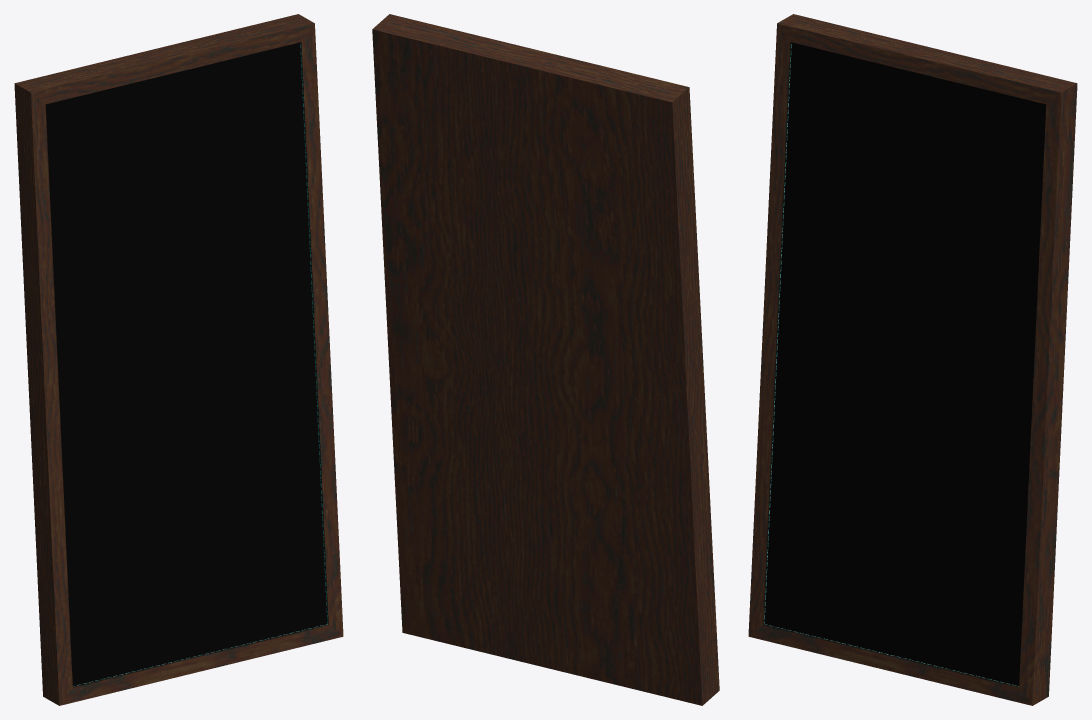
File: Mirror.fbx
The picture shows the model from 3 angles, left to right: view 1: azimuth 30°, elevation 25°; view 2: azimuth 150°, elevation 25°; view 3: azimuth 330°, elevation 25°; orthographic projection. The views are drawn at different scales.
Parts seen in each view (by area): view 1: Mesh_2, Mesh_4; view 2: Mesh_4; view 3: Mesh_2, Mesh_4.
Part boxes in pixels (left/top/right/bottom): Mesh_2: left=45, top=42, right=327, bottom=685; Mesh_4: left=14, top=14, right=343, bottom=705; Mesh_4: left=372, top=14, right=719, bottom=705; Mesh_2: left=764, top=42, right=1046, bottom=685; Mesh_4: left=748, top=14, right=1077, bottom=705.
Size of the model in its own units: 100 by 200 by 27.39.
Materials: 4 (1 with a texture image).
